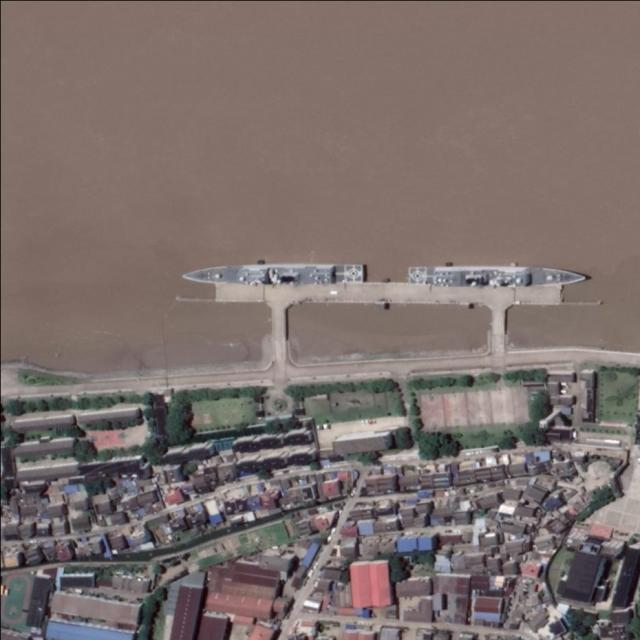Auxiliary Ships: (183, 264, 364, 284), (407, 267, 589, 284)
